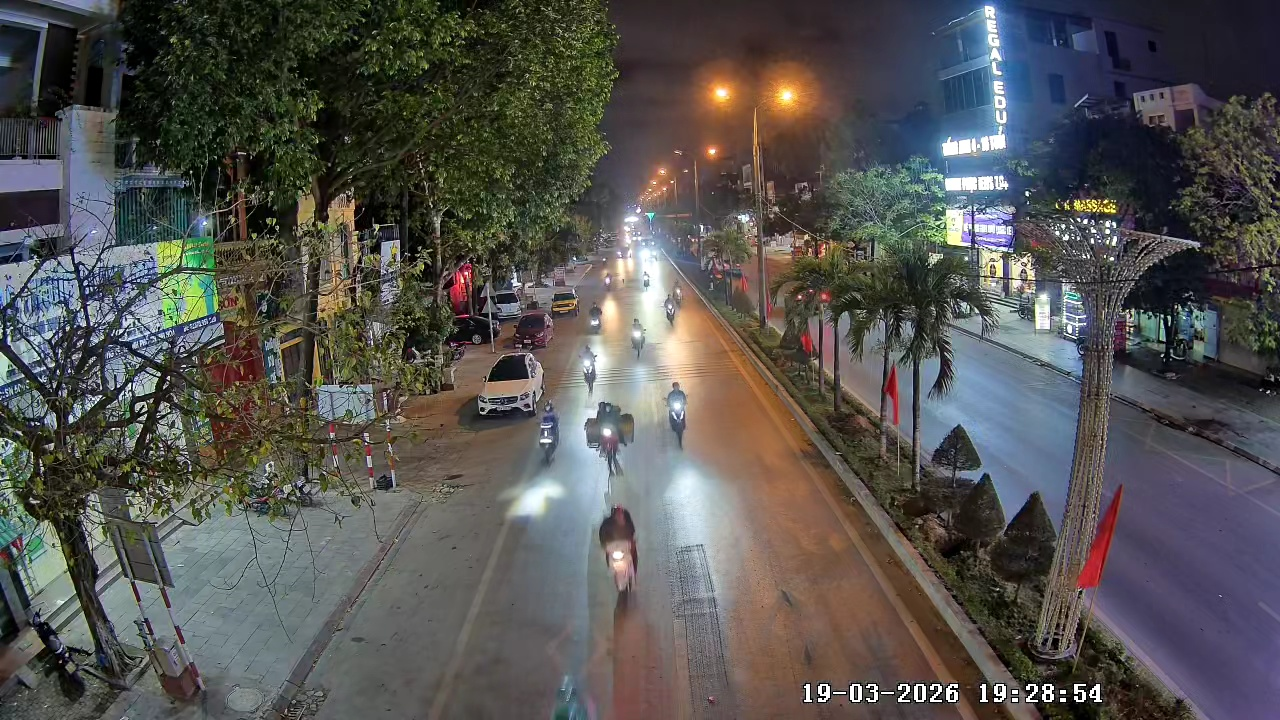car: (476, 349, 544, 418), (513, 307, 553, 349), (551, 282, 579, 317)
motorbike: (594, 500, 643, 613), (584, 398, 635, 479), (664, 379, 690, 450), (535, 402, 563, 466), (580, 341, 600, 387), (629, 312, 647, 357), (662, 286, 681, 328), (585, 298, 603, 332)
